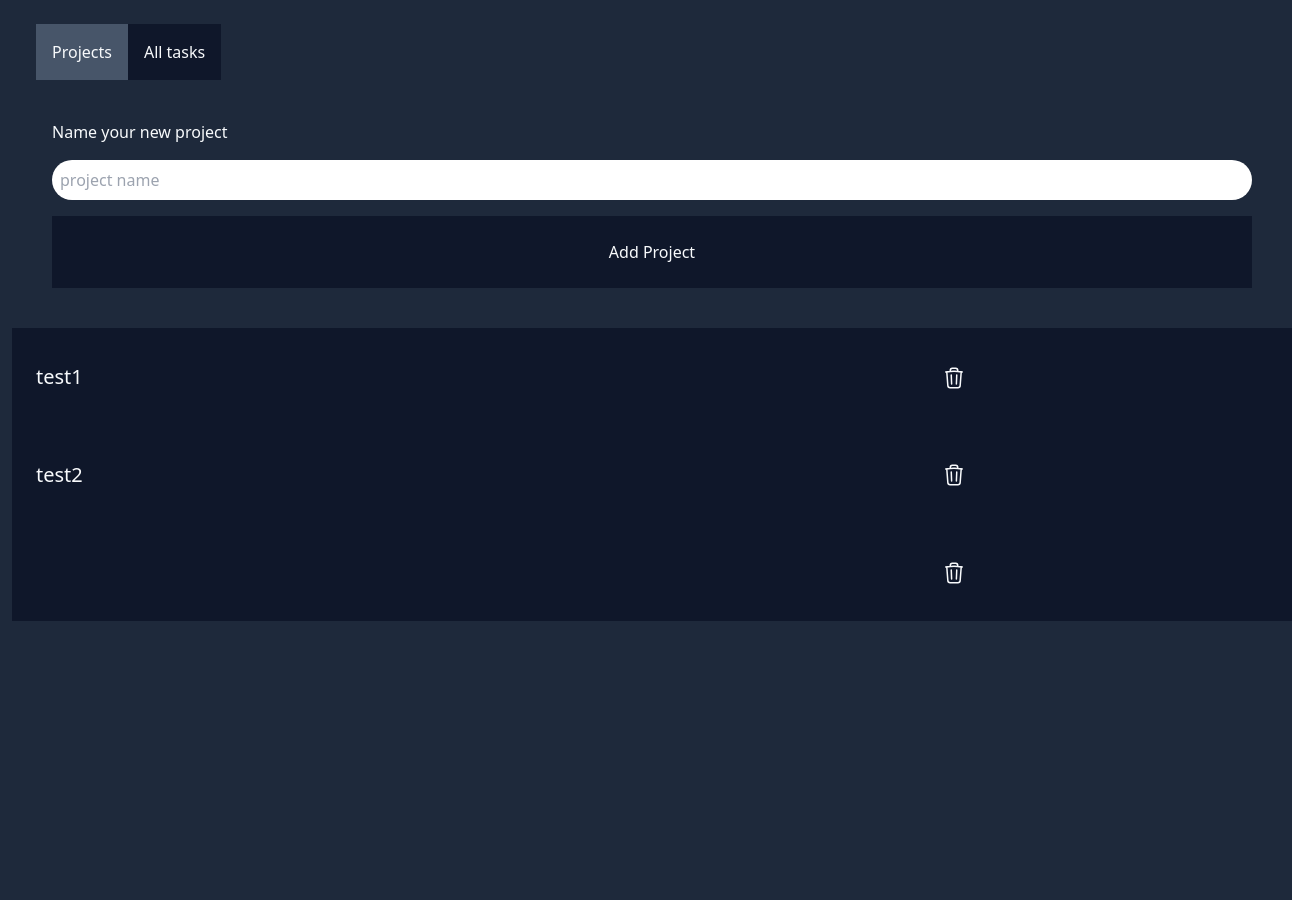
Test: renders All Tasks on toggle
The width and height of the screenshot is (1292, 900).
Click the button with test id "toggle-tasks" at (175, 52), box [128,24,221,80]
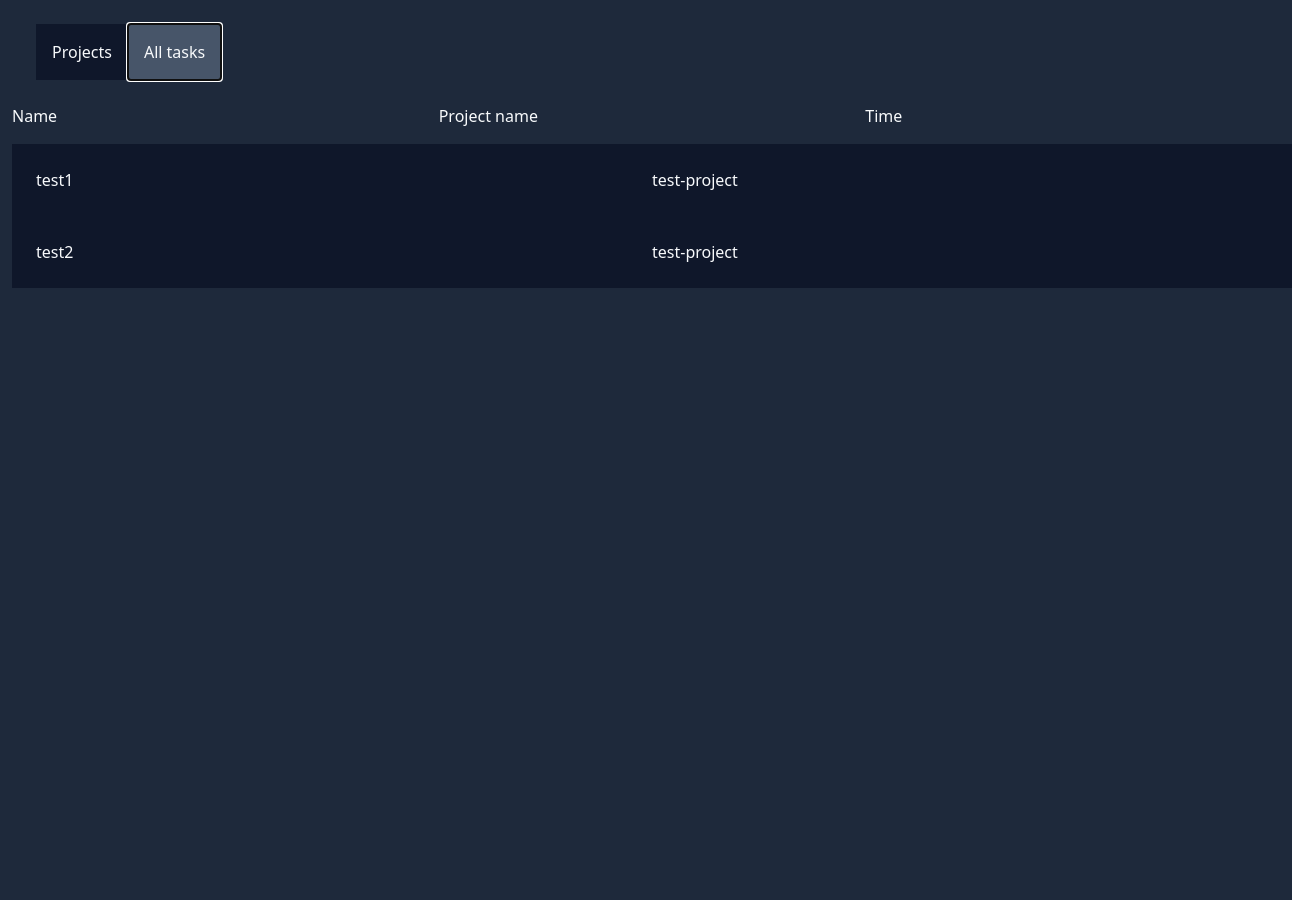
Now the text "Time" is shown, box [865,105,902,127]
